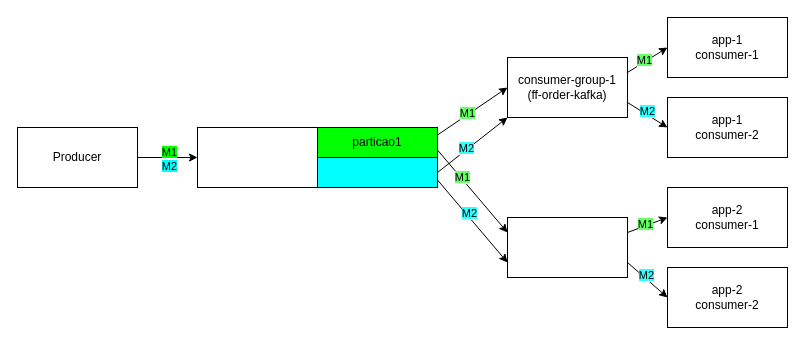
This 805x345 diagram has some shape labels left out. Here are the shapes that lost their labels. From the top down, the box of each, then its label:
(196, 126, 318, 188): Topico
(316, 156, 438, 188): particao2
(506, 216, 628, 278): consumer-group-2 (fi-order)[mercado]
